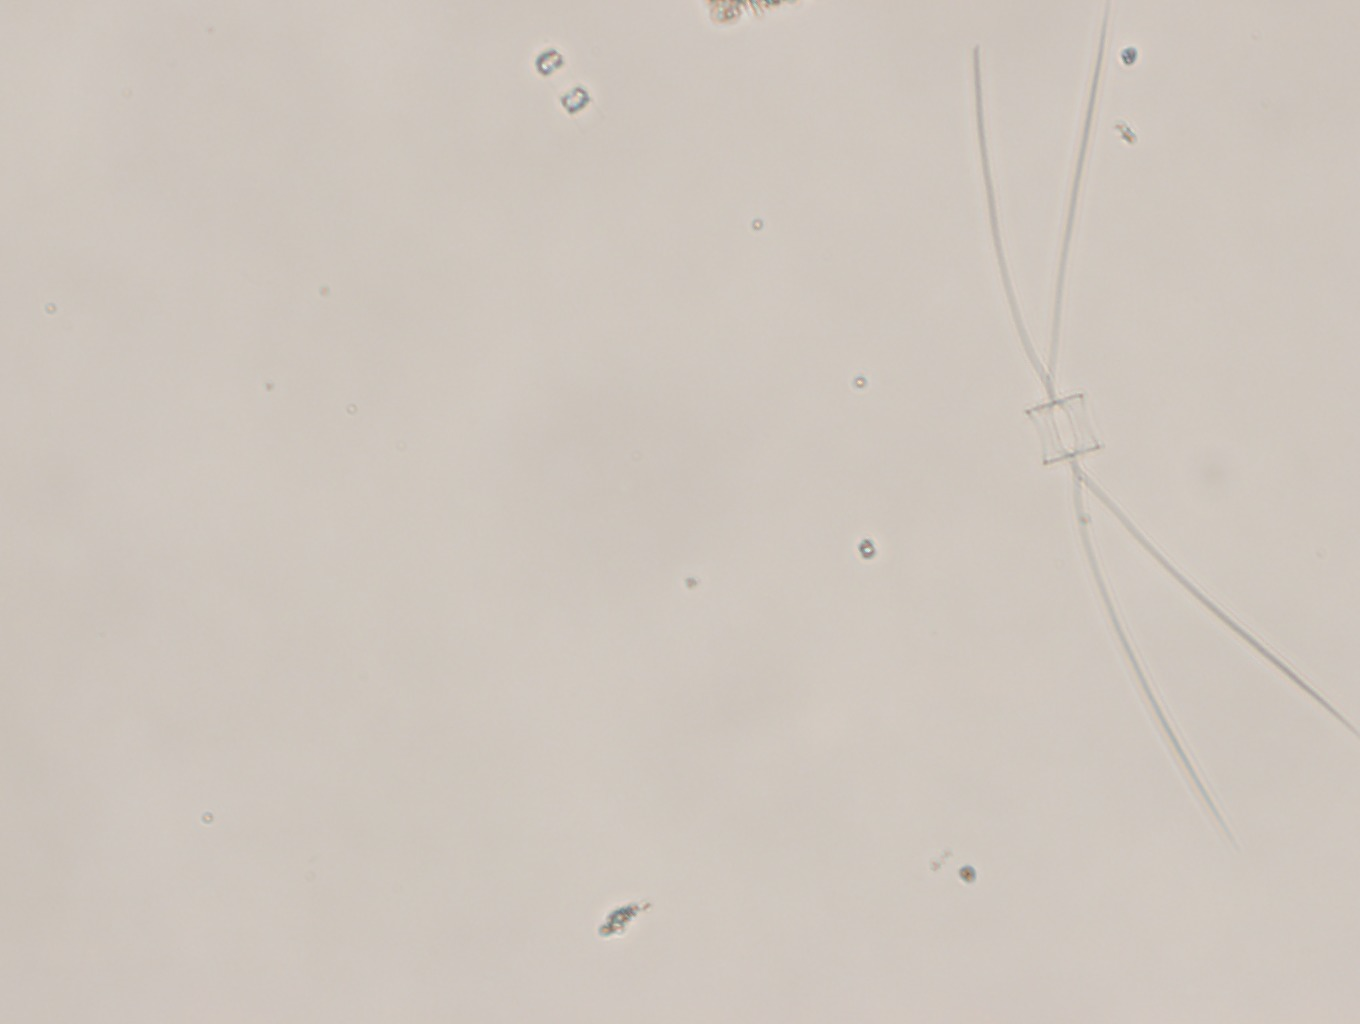chaetoceros: (953, 5, 1360, 847)
skeletonema: (524, 43, 593, 120)
